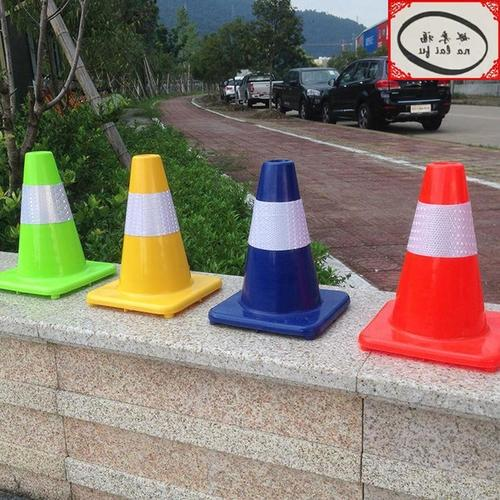cone_barrel: (369, 165, 499, 356), (223, 161, 334, 330), (97, 153, 205, 314), (5, 148, 98, 293)
